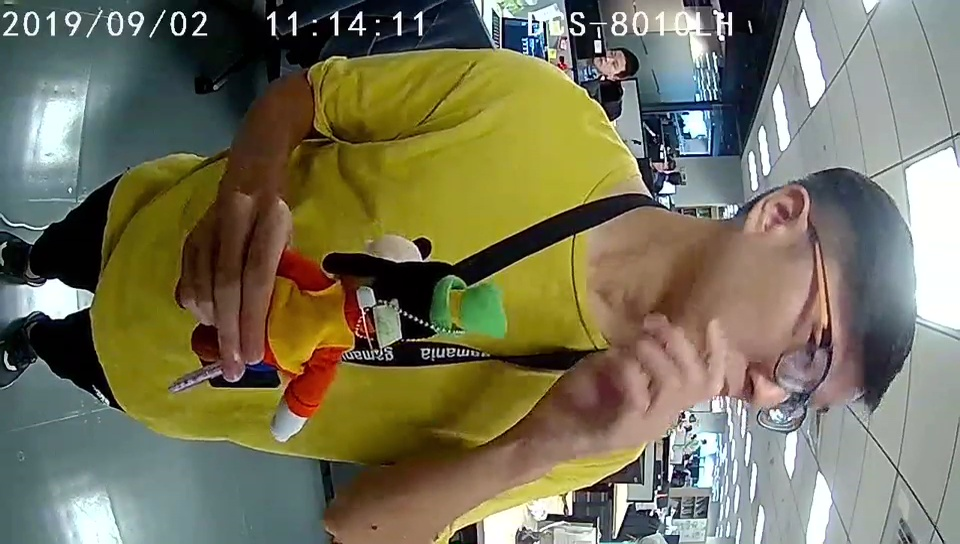goofy: (271, 257, 507, 443)
